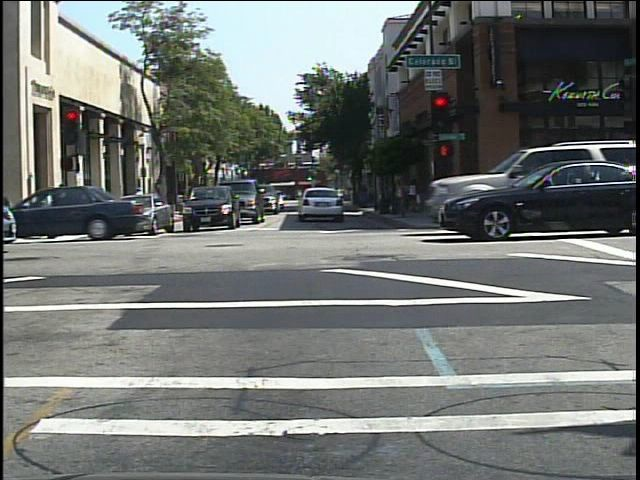person: (86, 187, 101, 229), (172, 183, 189, 218), (132, 183, 147, 215)
